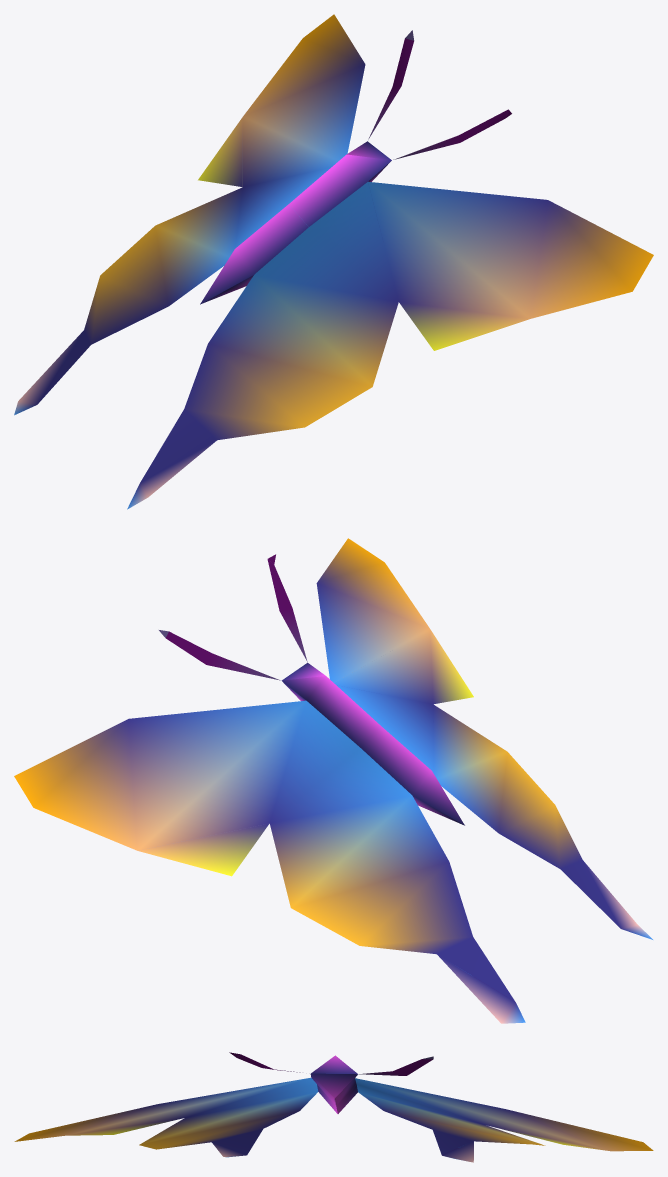
The model's file is butterfly.obj.
The picture shows the model from 3 angles, top to bottom: view 1: azimuth 30°, elevation 25°; view 2: azimuth 150°, elevation 25°; view 3: azimuth 270°, elevation 25°; orthographic projection. The views are drawn at different scales.
Parts seen in each view (by area): view 1: ObjObject; view 2: ObjObject; view 3: ObjObject.
Part boxes in pixels (left/top/right/bottom): ObjObject: left=14, top=14, right=653, bottom=509; ObjObject: left=14, top=538, right=652, bottom=1023; ObjObject: left=14, top=1052, right=653, bottom=1162.
Bounding box in the file's own units: 10.07 × 6.75 × 13.95.
